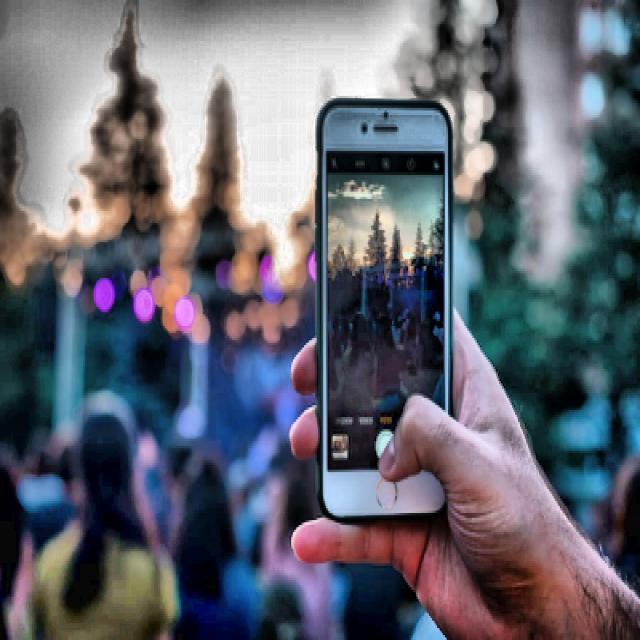Phone: (314, 98, 458, 526)
